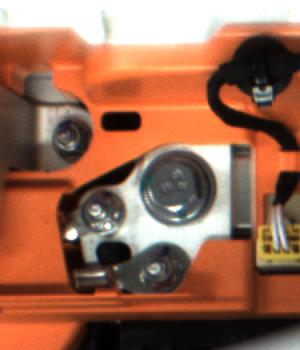nut_b: (137, 143, 219, 230)
